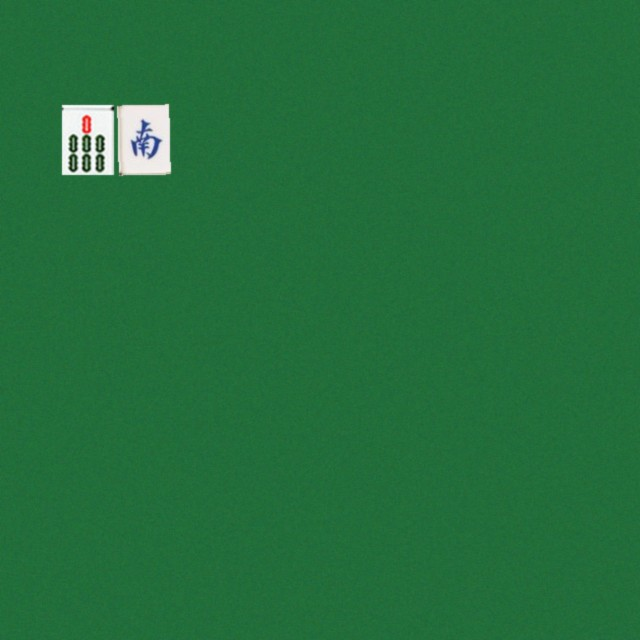tile: (61, 104, 113, 174), (117, 104, 169, 174)
